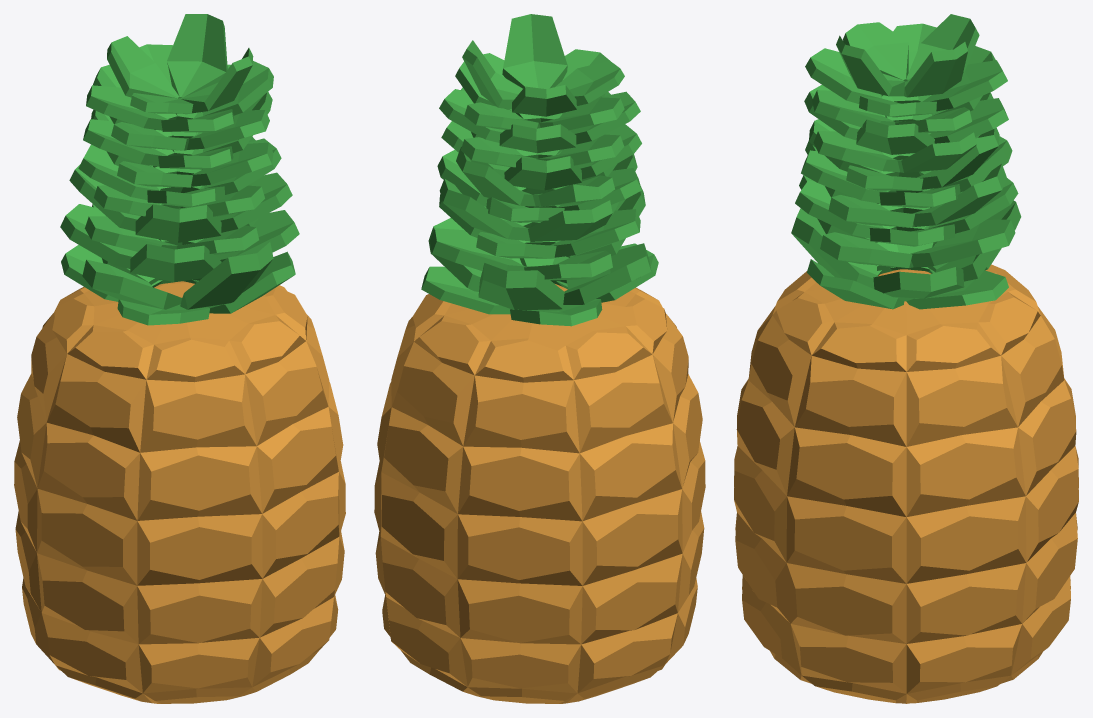
Rendered from pineapple.glb.
3 views of the same model, side by side, from view 1: azimuth 30°, elevation 25°; view 2: azimuth 150°, elevation 25°; view 3: azimuth 270°, elevation 25° (orthographic). The views are drawn at different scales.
Parts seen in each view (by area): view 1: pineapple_Circle.004; view 2: pineapple_Circle.004; view 3: pineapple_Circle.004.
Boxes of the visible parts, <box> form: pineapple_Circle.004: <box>14,14,345,703</box>; pineapple_Circle.004: <box>374,14,705,703</box>; pineapple_Circle.004: <box>734,14,1078,703</box>.
Bounding box in the file's own units: 0.3087 × 0.6349 × 0.3088.
